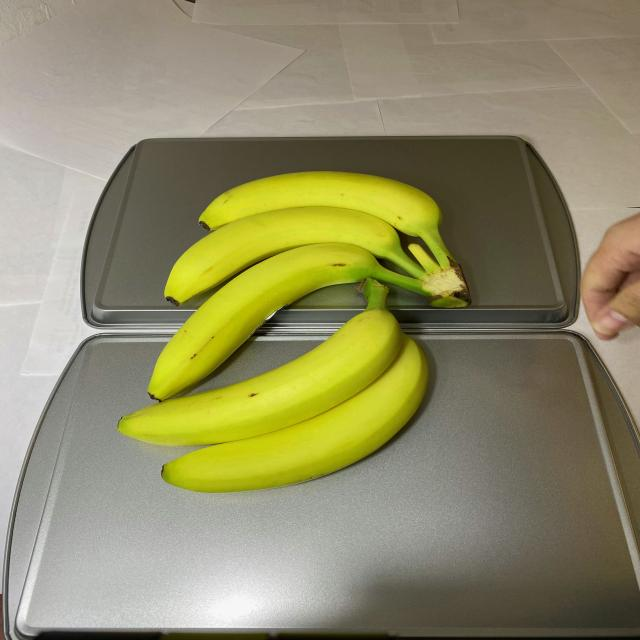banana: (111, 170, 472, 491)
